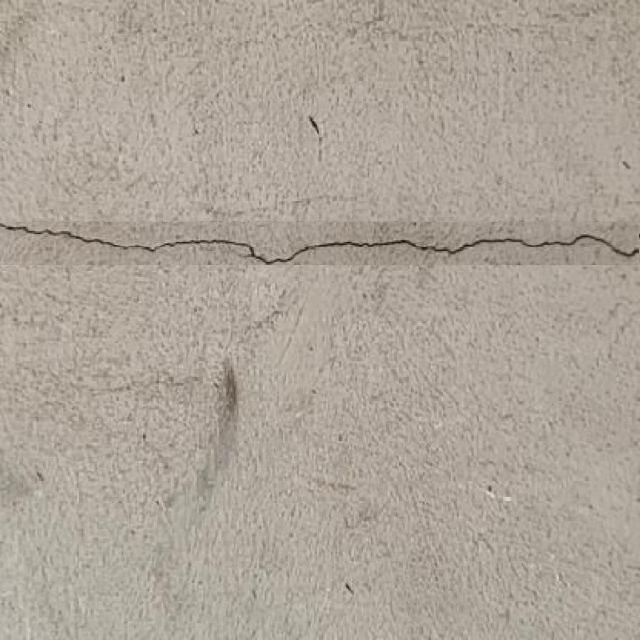horizontal crack: (1, 222, 637, 265)
